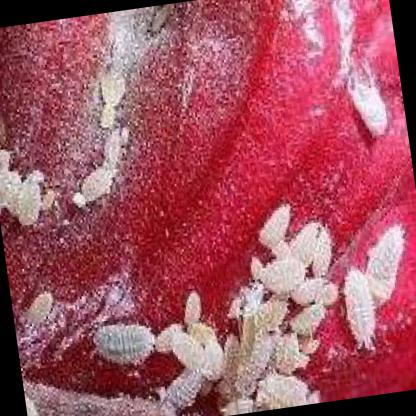mealy bug: (344, 265, 375, 346), (93, 324, 153, 362), (369, 227, 403, 280), (258, 259, 303, 290), (259, 208, 290, 248), (16, 176, 40, 223), (81, 168, 112, 204), (172, 335, 204, 369), (291, 224, 316, 265)
